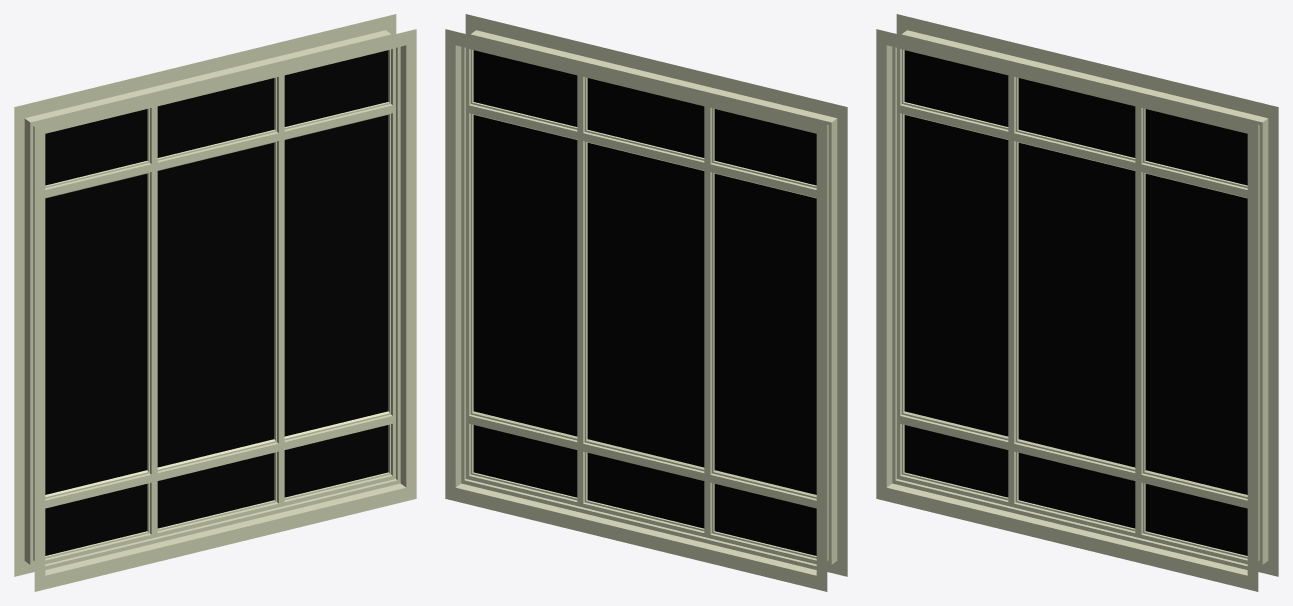
The model's file is Window.FBX.
3 views of the same model, side by side, from view 1: azimuth 30°, elevation 25°; view 2: azimuth 150°, elevation 25°; view 3: azimuth 330°, elevation 25° (orthographic).
Parts seen in each view (by area): view 1: window001, window002; view 2: window002, window001; view 3: window001, window002.
Boxes of the visible parts, left/top/right/bottom form: window001: left=34, top=29, right=416, bottom=591; window002: left=14, top=14, right=396, bottom=576; window002: left=445, top=29, right=827, bottom=591; window001: left=465, top=14, right=847, bottom=576; window001: left=876, top=29, right=1258, bottom=591; window002: left=896, top=14, right=1278, bottom=576.
Size of the model in its own units: 23.82 by 28 by 2.22.
